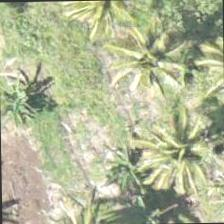Kelapa_Sawit: (111, 12, 203, 104), (143, 105, 223, 198)
